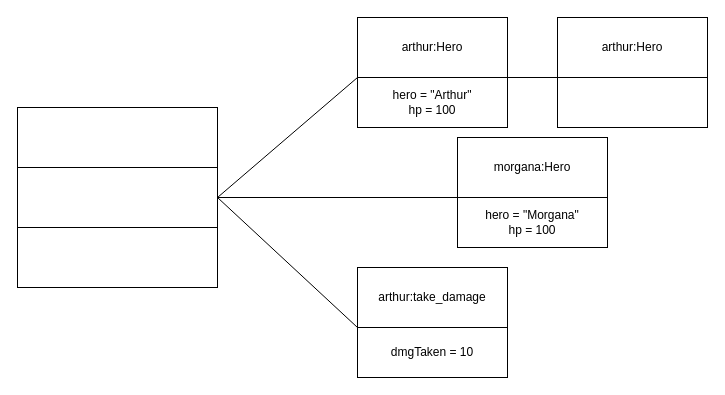
Some shapes in this 725 by 395 pixel diagram are drawn without their labels. Each missing label, with the centre of its shape:
+ hero : str +hp : int: the point at 117,197
+take_damage(dmgTaken:int)void: the point at 117,257
Hero: the point at 117,137
hero = "Arthur" hp = 90: the point at 632,102
